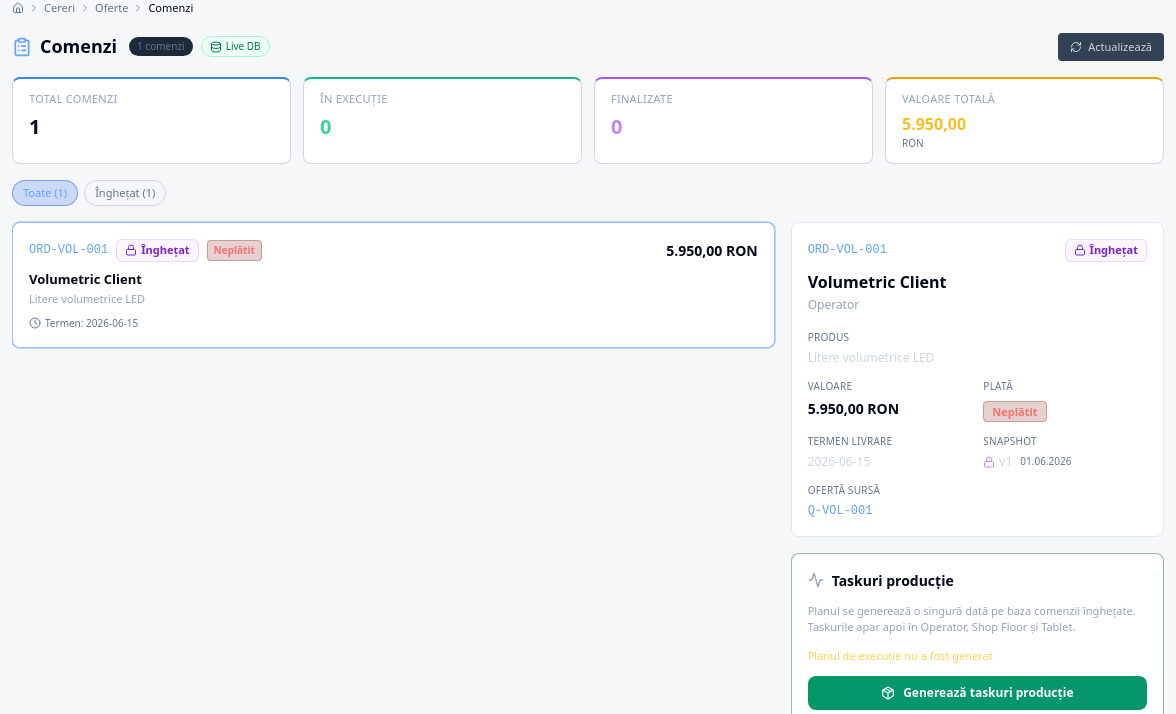
Test: Orders execution dispatch › shows existing plan message on duplicate generation
Click the button with test id "order-generate-execution-plan-action": x=977, y=693 [808,676,1147,710]
(page scrolled)
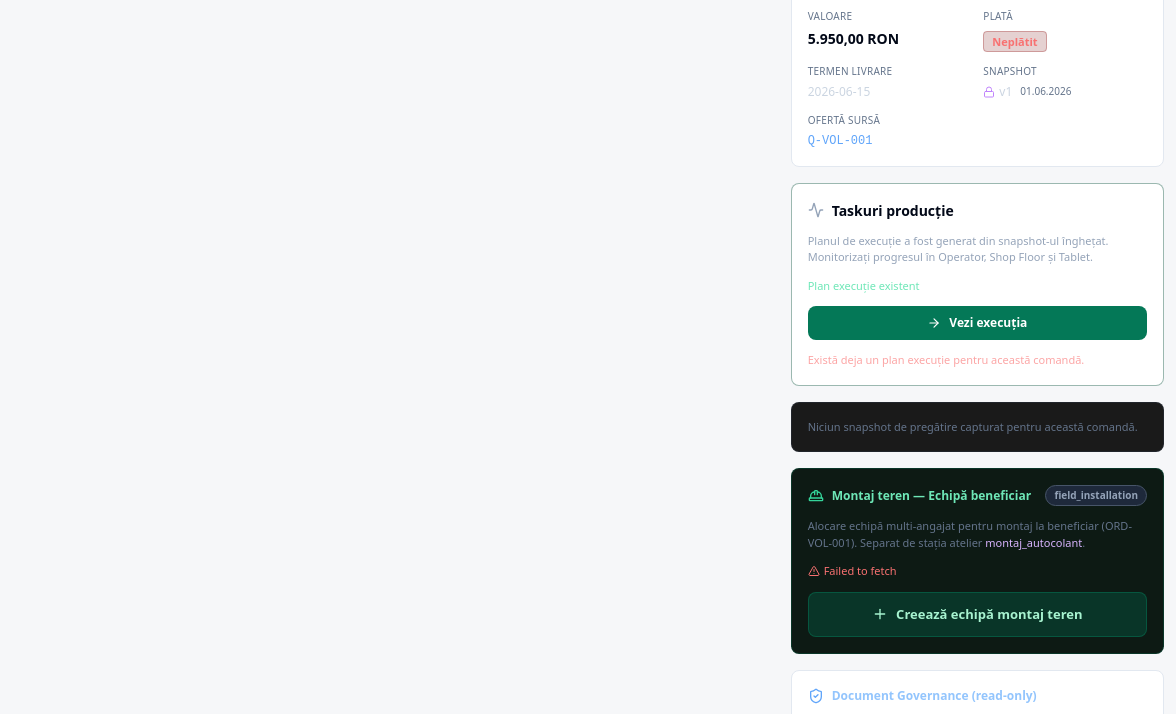
Result: the text with test id "order-execution-plan-error" shows "Există deja" at [808,352,1084,367]
